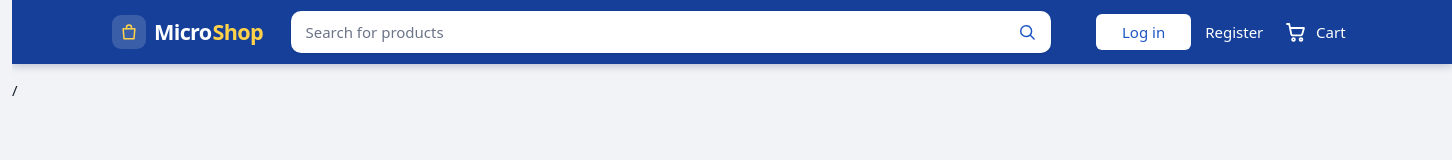
Test: the search box in the header › does the same from the Search button
Type "lamp" into the dropdown named "Search products". click: (647, 32)
box: [291,11,1003,53]
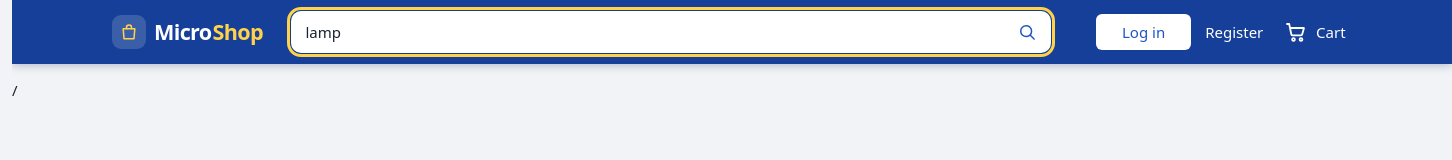
Click the button named "Search". click: (1027, 32)
box: [1003,11,1051,53]
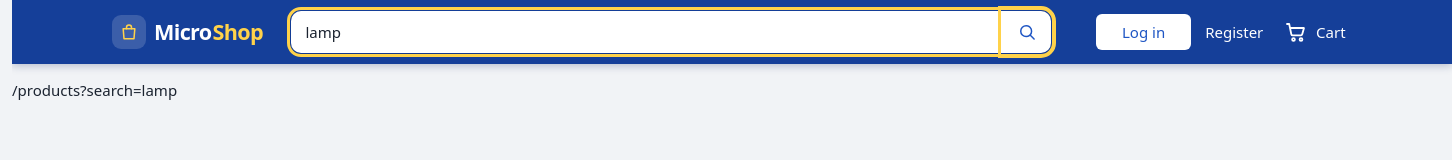
Expected: the text with test id "where" reads "/products?search=lamp", [12,80,177,100]
